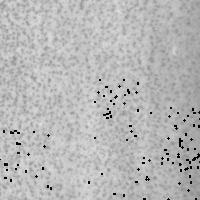pitted_surface: (1, 1, 198, 200), (94, 79, 150, 139), (142, 140, 199, 198), (0, 129, 50, 187), (87, 168, 147, 200), (166, 107, 200, 163)
